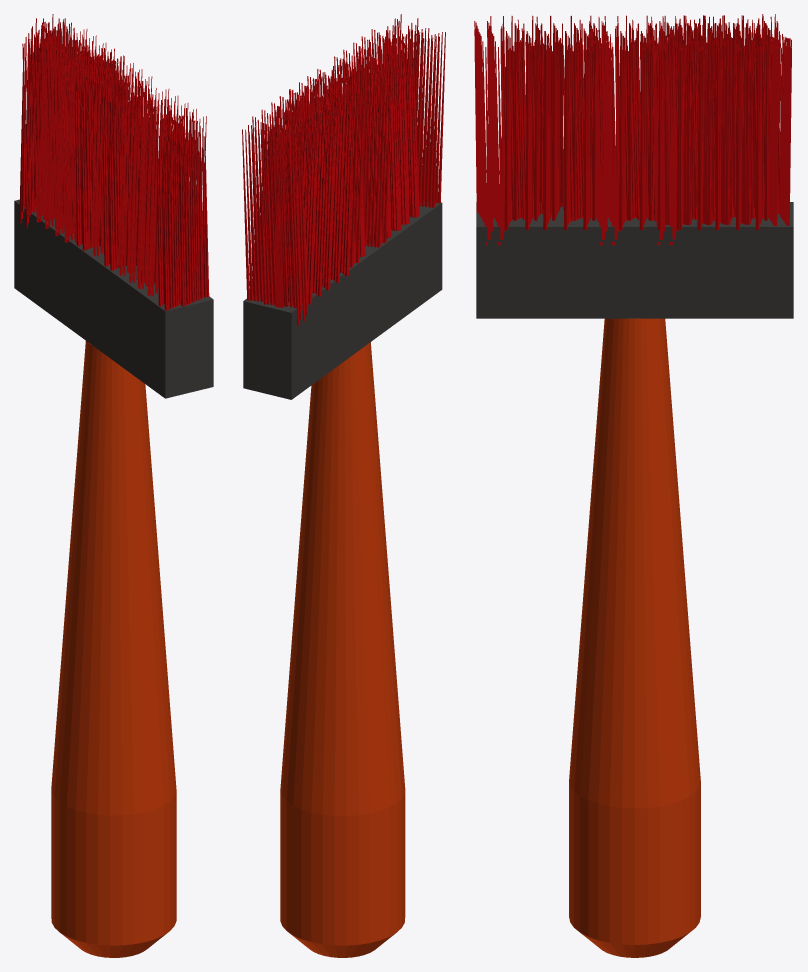
Rendered from Kwastrood.obj.
The picture shows the model from 3 angles, left to right: view 1: azimuth 30°, elevation 25°; view 2: azimuth 150°, elevation 25°; view 3: azimuth 270°, elevation 25°; orthographic projection. The views are drawn at different scales.
Parts seen in each view (by area): view 1: Cylinder, Cube.001_Cube, Cube_Cube.001; view 2: Cylinder, Cube.001_Cube, Cube_Cube.001; view 3: Cylinder, Cube.001_Cube, Cube_Cube.001.
Boxes of the visible parts, <box> form: Cylinder: <box>51,341,176,957</box>; Cube.001_Cube: <box>19,14,209,310</box>; Cube_Cube.001: <box>14,199,213,398</box>; Cylinder: <box>280,342,405,957</box>; Cube.001_Cube: <box>242,14,445,325</box>; Cube_Cube.001: <box>243,202,442,399</box>; Cylinder: <box>569,318,700,957</box>; Cube.001_Cube: <box>474,14,791,244</box>; Cube_Cube.001: <box>476,202,793,318</box>.
Size of the model in its own units: 2 by 15.44 by 4.84.
